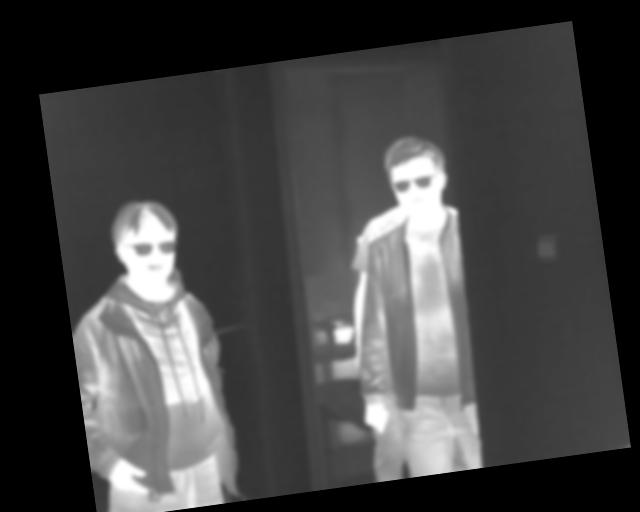face: (106, 193, 184, 288), (384, 134, 453, 225)
